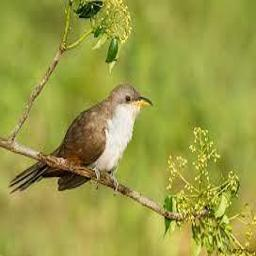Cuckoo: (9, 83, 154, 192)
